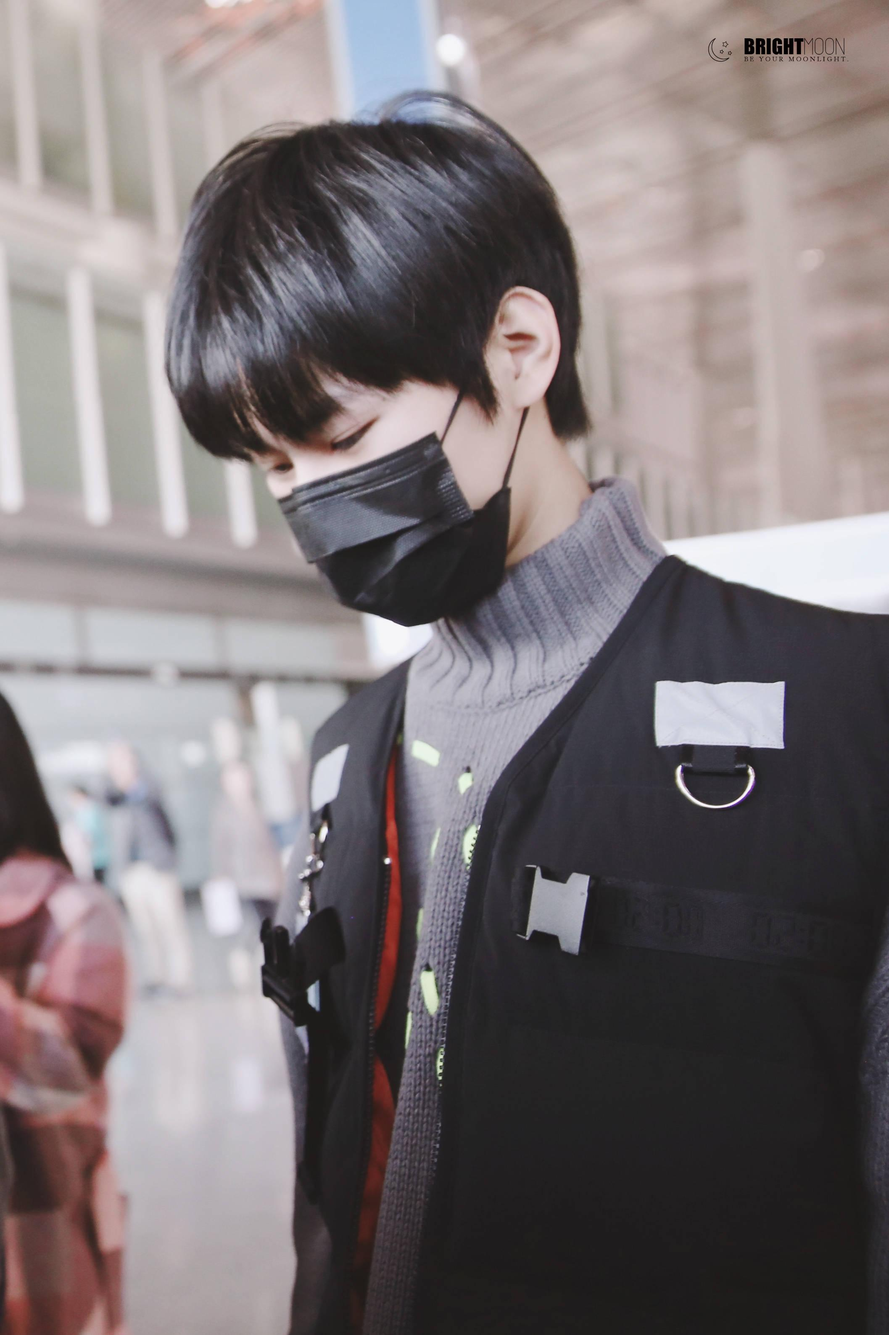OK: (241, 367, 494, 627)
